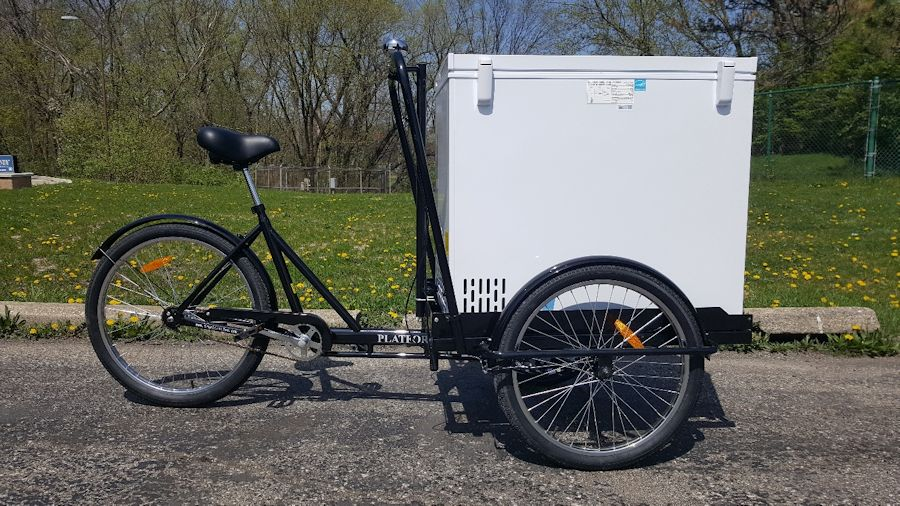handle bar: (367, 34, 430, 104)
seat: (187, 114, 285, 176)
wheel: (486, 252, 720, 479), (77, 217, 285, 422)
